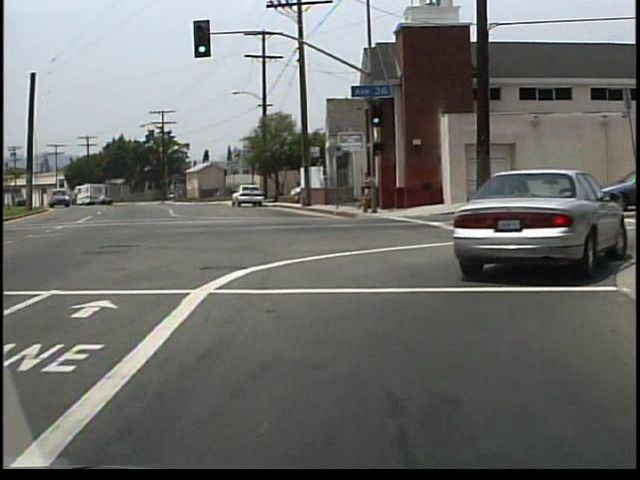person: (359, 170, 375, 213)
